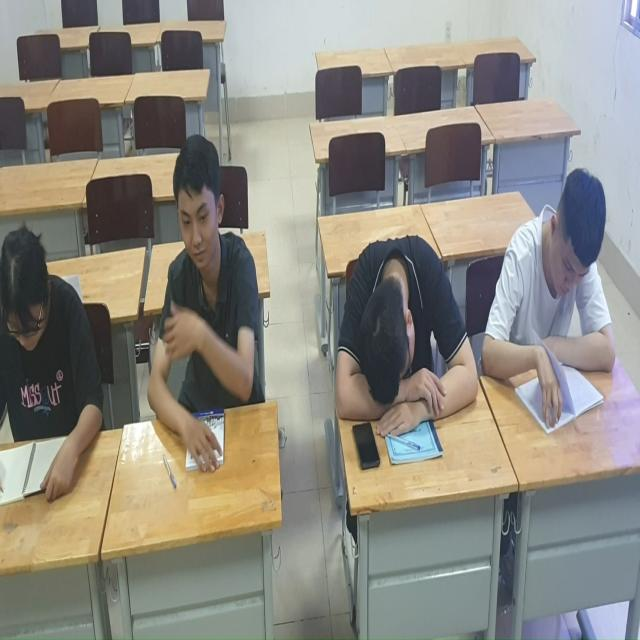raise_hand: (152, 112, 263, 489)
read: (486, 156, 633, 431), (2, 227, 106, 499)
sleep: (334, 207, 490, 444)
